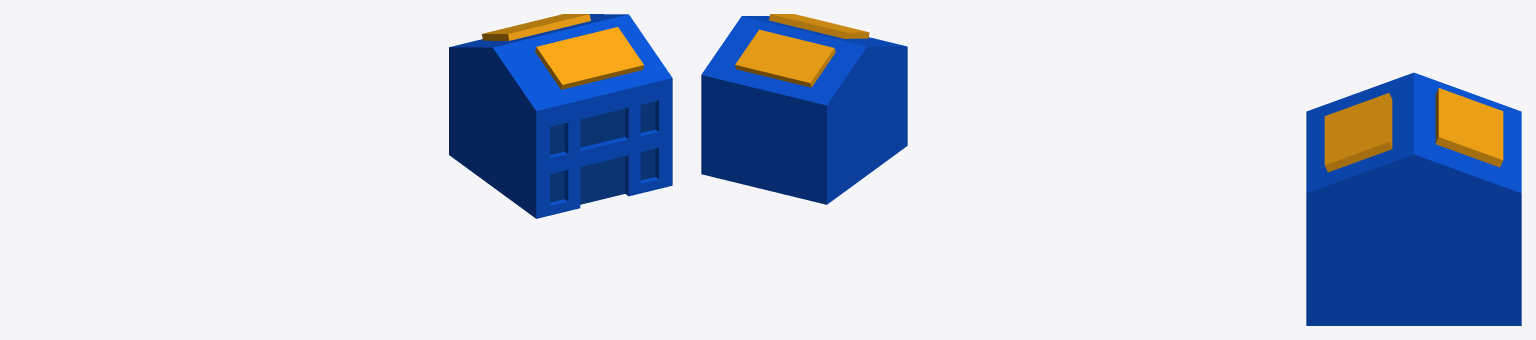
File: binaacilacak3.gltf
3 views of the same model, side by side, from view 1: azimuth 30°, elevation 25°; view 2: azimuth 150°, elevation 25°; view 3: azimuth 270°, elevation 25° (orthographic). The views are drawn at different scales.
Visible parts, largest first — view 1: Building_042.023, Building_042_RoofCap_0.003, Building_042.024, Building_042.025, Building_042_RoofCap_1.003; view 2: Building_042.023, Building_042_RoofCap_1.003, Building_042_RoofCap_0.003; view 3: Building_042.023, Building_042_RoofCap_0.003, Building_042_RoofCap_1.003.
Boxes of the visible parts, x1=… form: Building_042.023: x1=449, y1=14, x2=672, y2=218; Building_042_RoofCap_0.003: x1=535, y1=27, x2=643, y2=89; Building_042.024: x1=550, y1=101, x2=655, y2=202; Building_042.025: x1=580, y1=156, x2=625, y2=204; Building_042_RoofCap_1.003: x1=482, y1=14, x2=590, y2=40; Building_042.023: x1=701, y1=16, x2=907, y2=204; Building_042_RoofCap_1.003: x1=735, y1=29, x2=835, y2=87; Building_042_RoofCap_0.003: x1=769, y1=14, x2=869, y2=38; Building_042.023: x1=1306, y1=72, x2=1521, y2=325; Building_042_RoofCap_0.003: x1=1324, y1=93, x2=1392, y2=172; Building_042_RoofCap_1.003: x1=1435, y1=88, x2=1503, y2=167.
Size of the model in its own units: 0.2147 by 0.061 by 0.0543.
